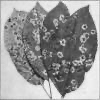Apple rust leaf: (52, 2, 98, 97), (3, 4, 48, 92), (23, 2, 54, 82)
